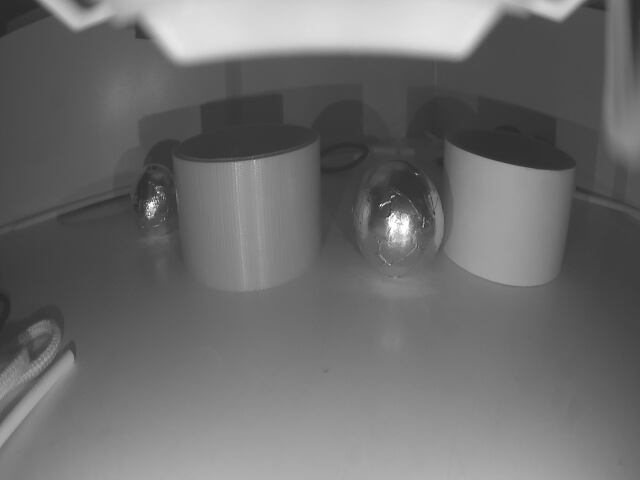Live: (354, 159, 442, 278), (130, 165, 183, 236)
